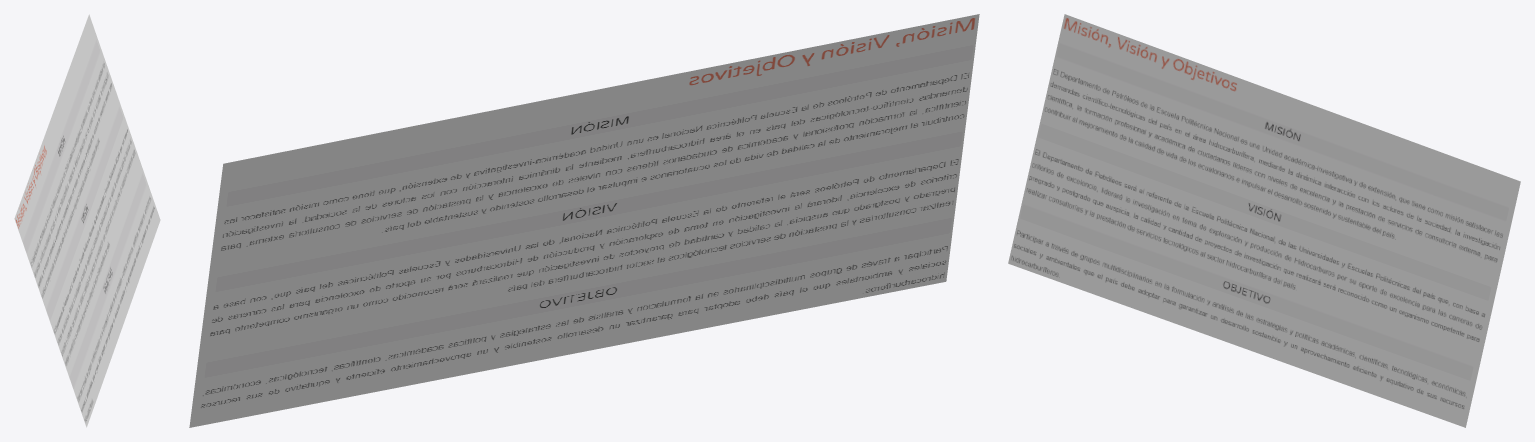
The model's file is petroleos.glb.
3 views of the same model, side by side, from view 1: azimuth 30°, elevation 25°; view 2: azimuth 150°, elevation 25°; view 3: azimuth 270°, elevation 25° (orthographic). The views are drawn at different scales.
Visible parts, largest first — view 1: Cube; view 2: Cube; view 3: Cube.
Boxes of the visible parts, bbox=[...] form: Cube: bbox=[14, 14, 160, 427]; Cube: bbox=[189, 14, 979, 427]; Cube: bbox=[1008, 14, 1520, 427].
Bounding box in the file's own units: 3.26 × 2.03 × 3.99.
1 material, 1 textured.
